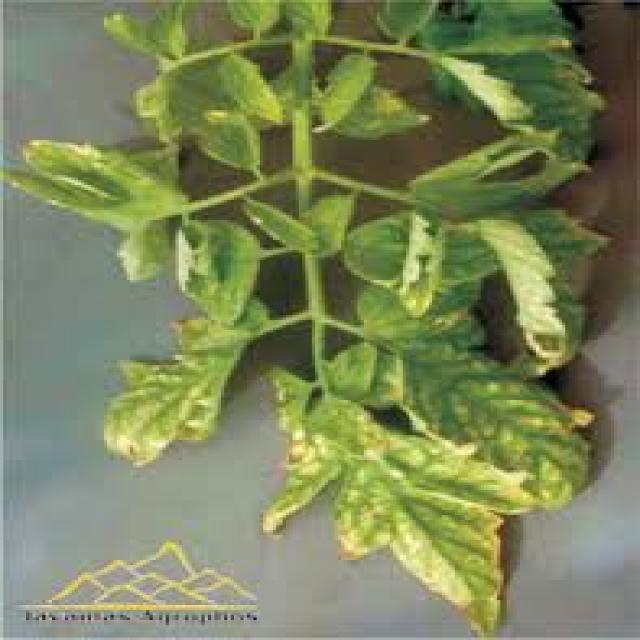virus_kuning: (339, 422, 532, 630)
